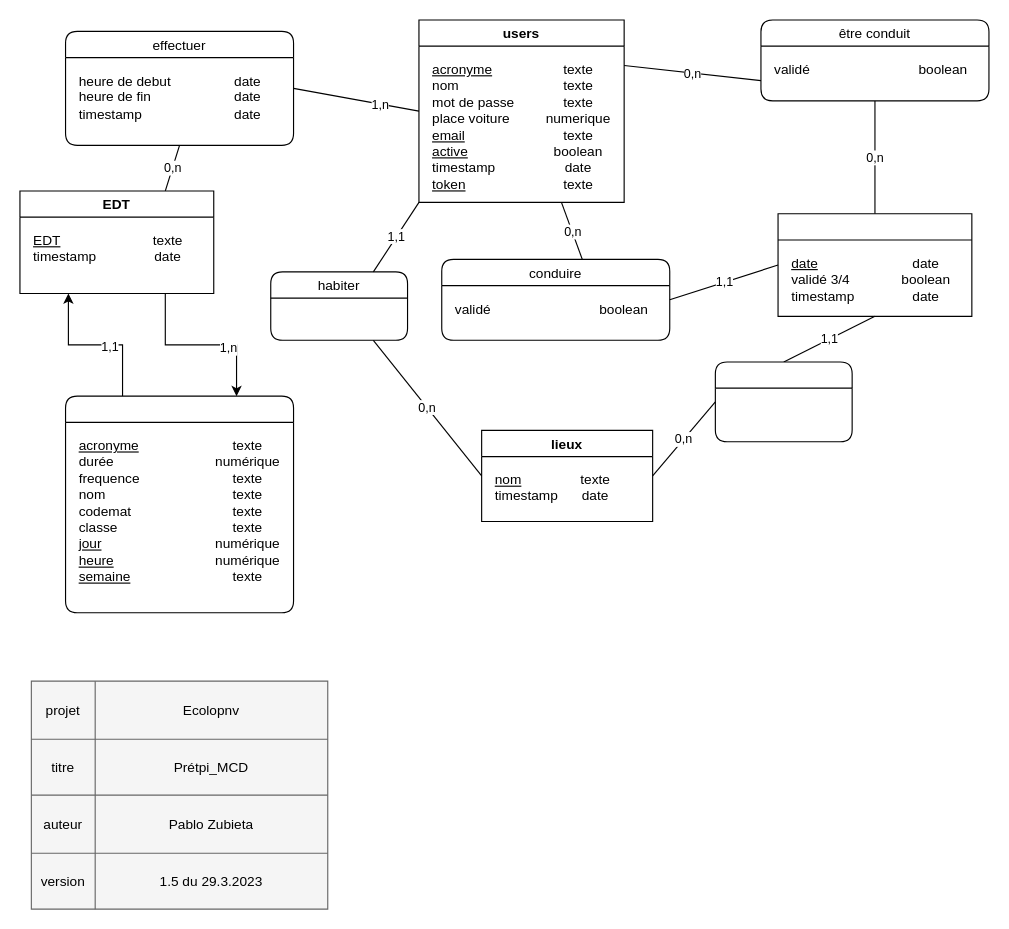
The diagram is 1009 pixels wide and 929 high, and some of its shapes have lost their labels. Here are the shapes that lost their labels. From the top down, the box of each, then its label:
(777, 213, 972, 316): covoiturage
(714, 361, 852, 442): partir
(64, 395, 294, 613): simplifier
